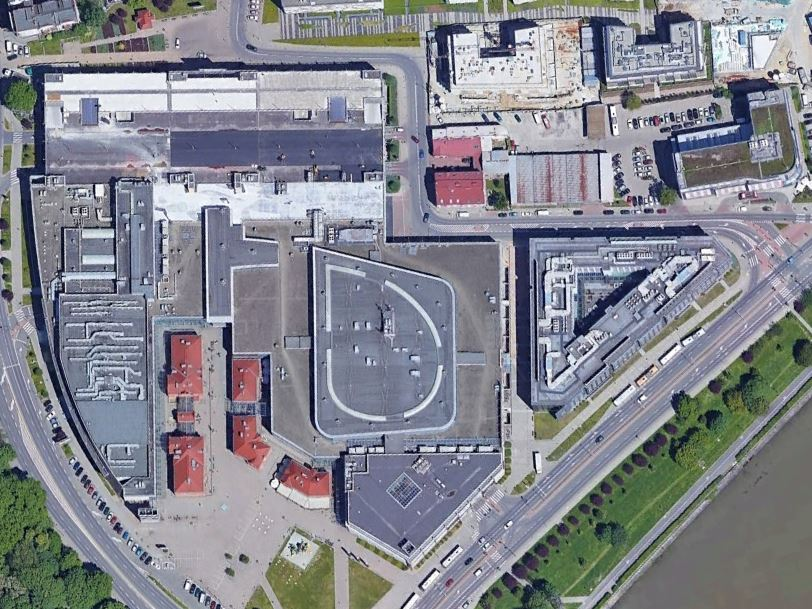block of flats: (523, 221, 735, 426), (668, 81, 804, 205), (440, 11, 562, 97), (602, 11, 709, 89)
garage: (503, 147, 616, 213), (430, 123, 494, 211)
shopping_center: (25, 66, 515, 573)
